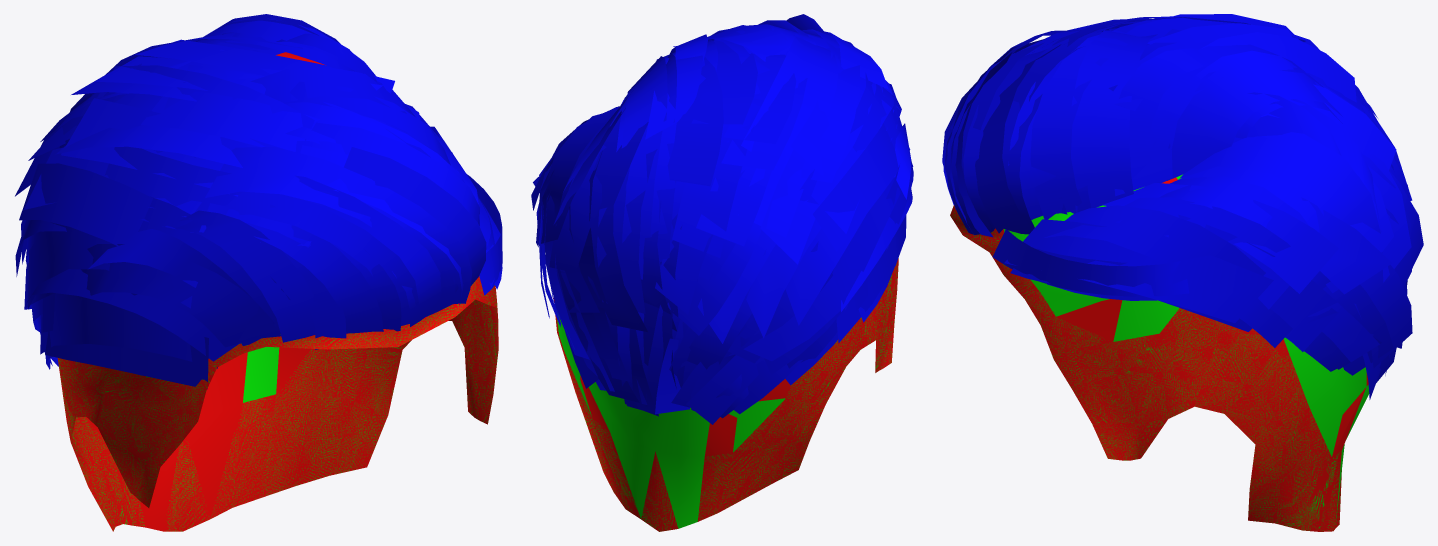
The model's file is hair_011.obj.
The picture shows the model from 3 angles, left to right: view 1: azimuth 30°, elevation 25°; view 2: azimuth 150°, elevation 25°; view 3: azimuth 270°, elevation 25°; orthographic projection. The views are drawn at different scales.
Visible parts, largest first — view 1: hair_011; view 2: hair_011; view 3: hair_011.
Boxes of the visible parts, x1=… form: hair_011: x1=15, y1=14, x2=502, y2=531; hair_011: x1=531, y1=14, x2=913, y2=531; hair_011: x1=942, y1=14, x2=1423, y2=531.
Size of the model in its own units: 17.34 by 22.26 by 19.87.
